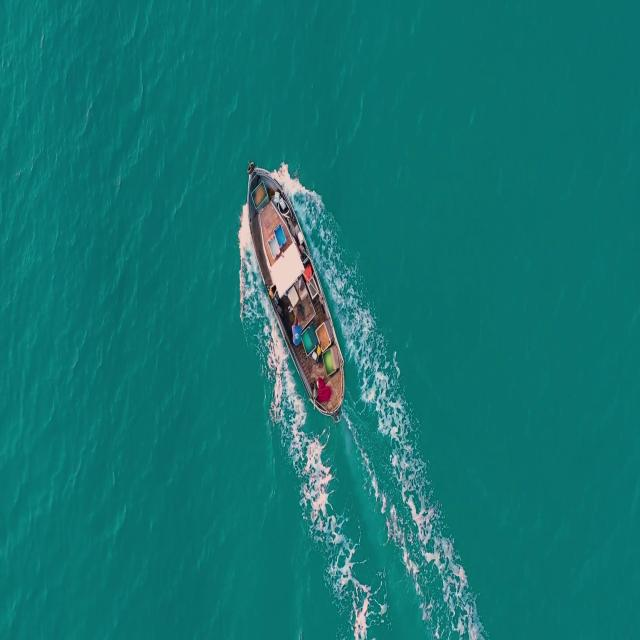ship: (243, 167, 351, 426)
